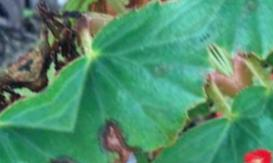Tomato leaf bacterial spot: (26, 0, 265, 163)
